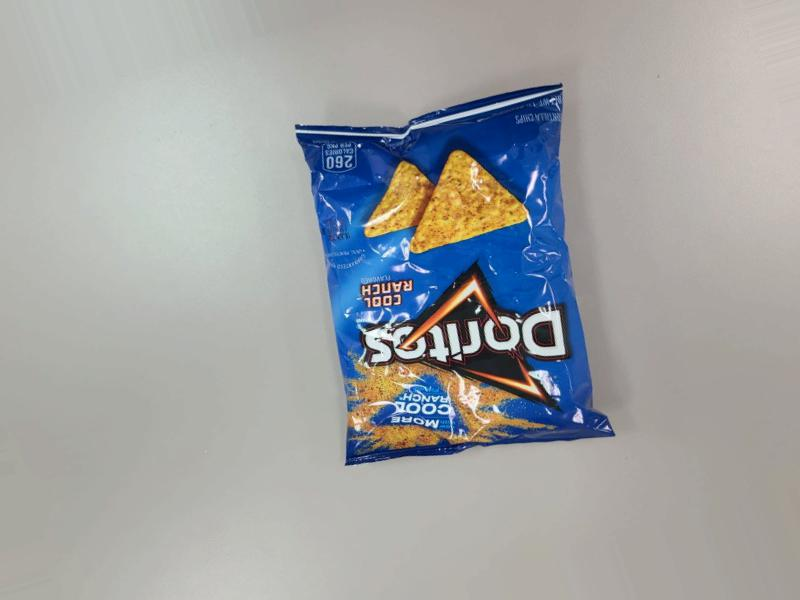doritos: (307, 73, 618, 483)
